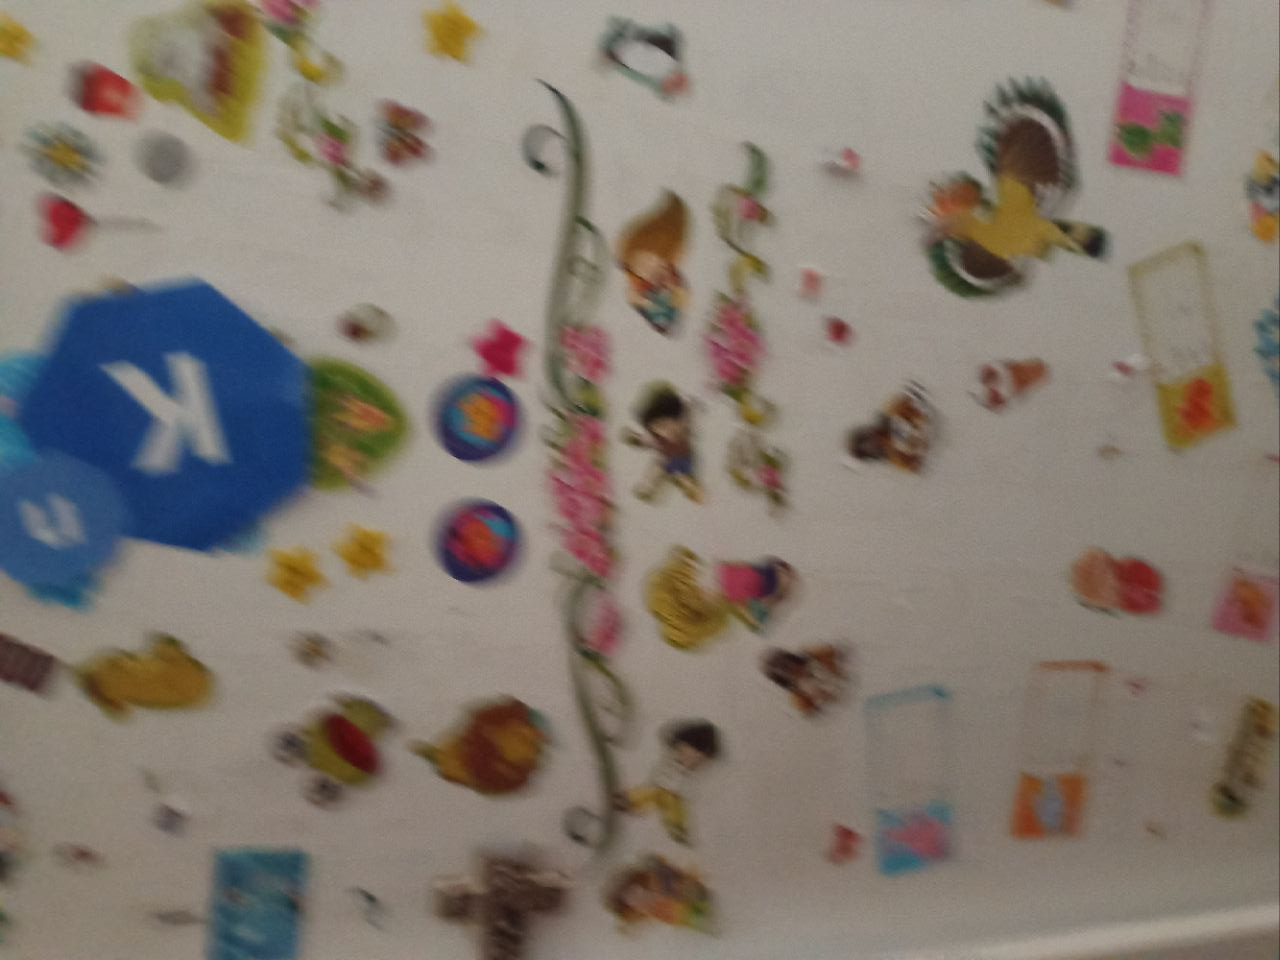knative: (2, 272, 306, 602)
